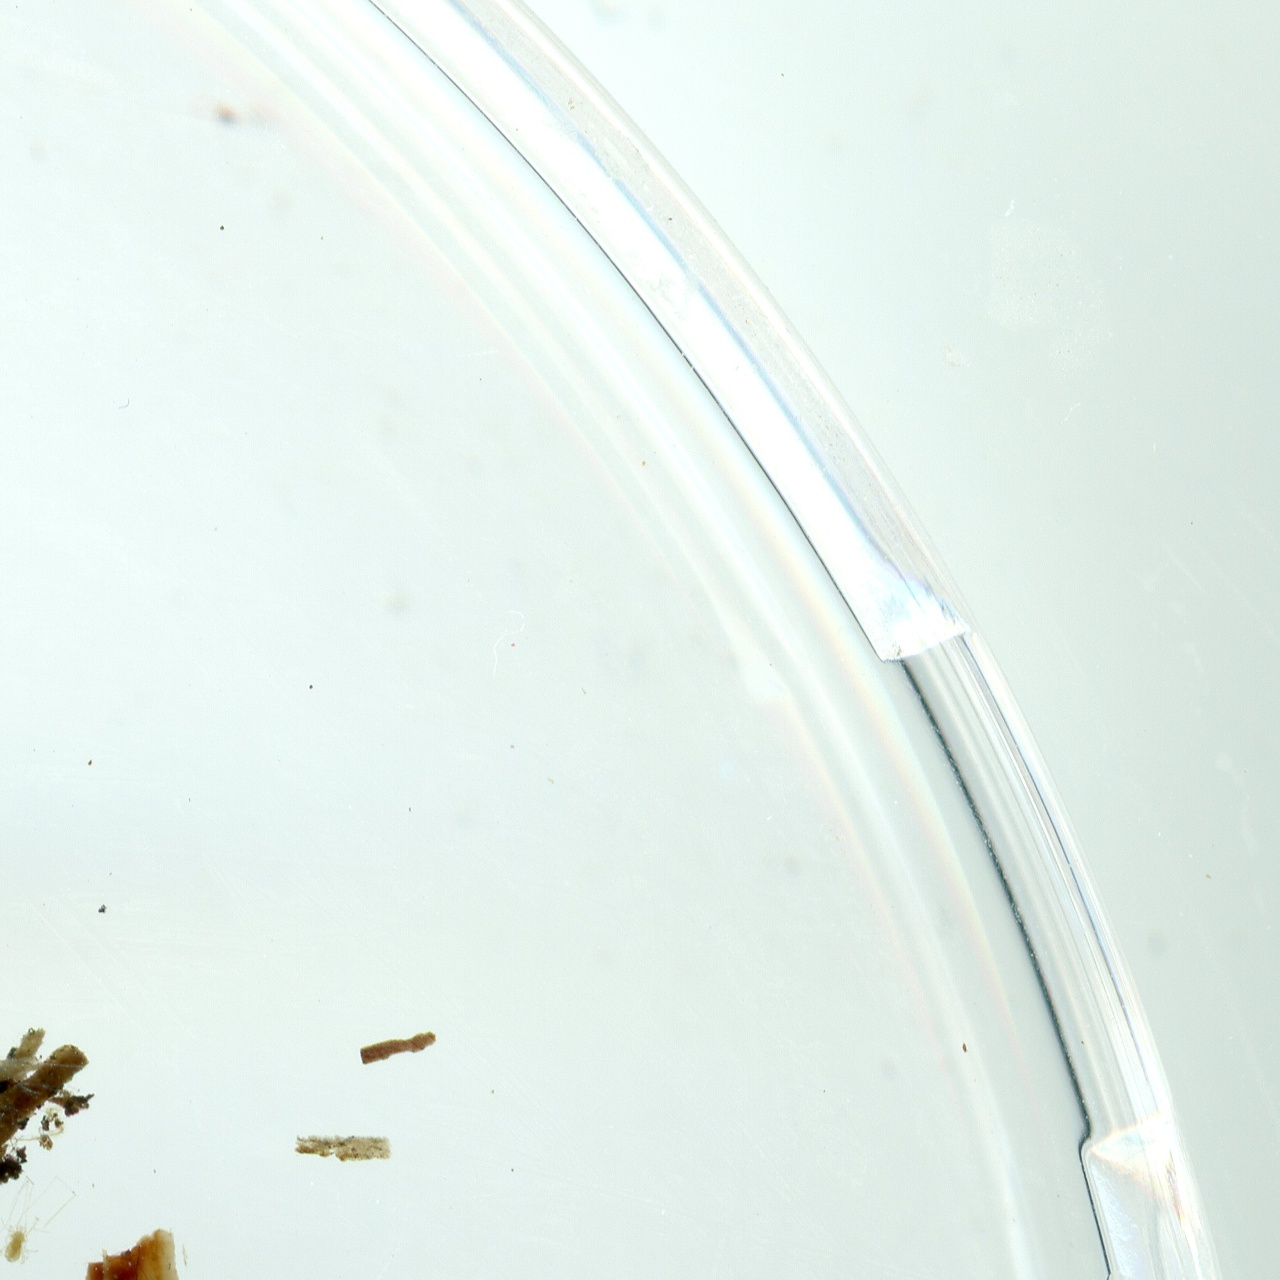arthropod: (0, 1171, 82, 1273)
